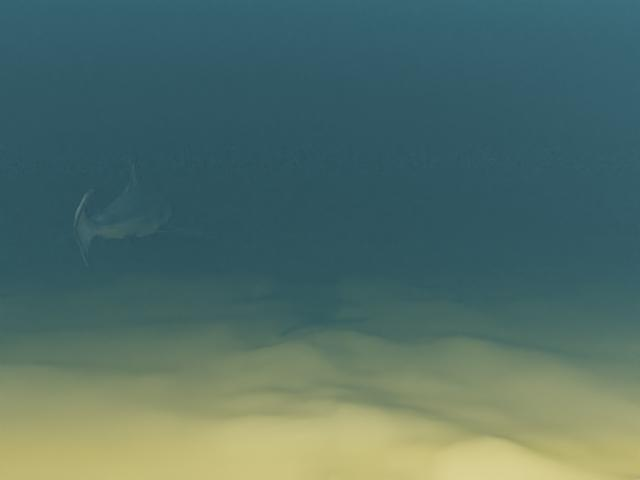Carribean Shark.001: (57, 158, 216, 266)
